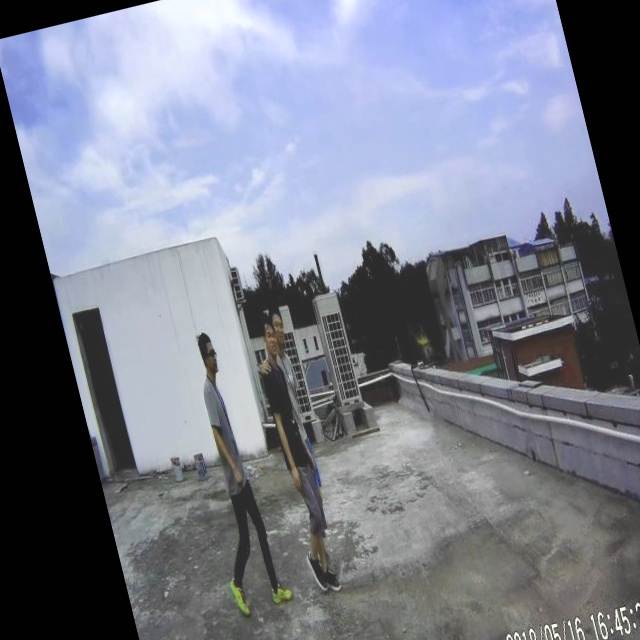Sin_Casco_Mascarrilla: (196, 331, 223, 379)
Sin_Chaleco: (199, 378, 249, 489)
